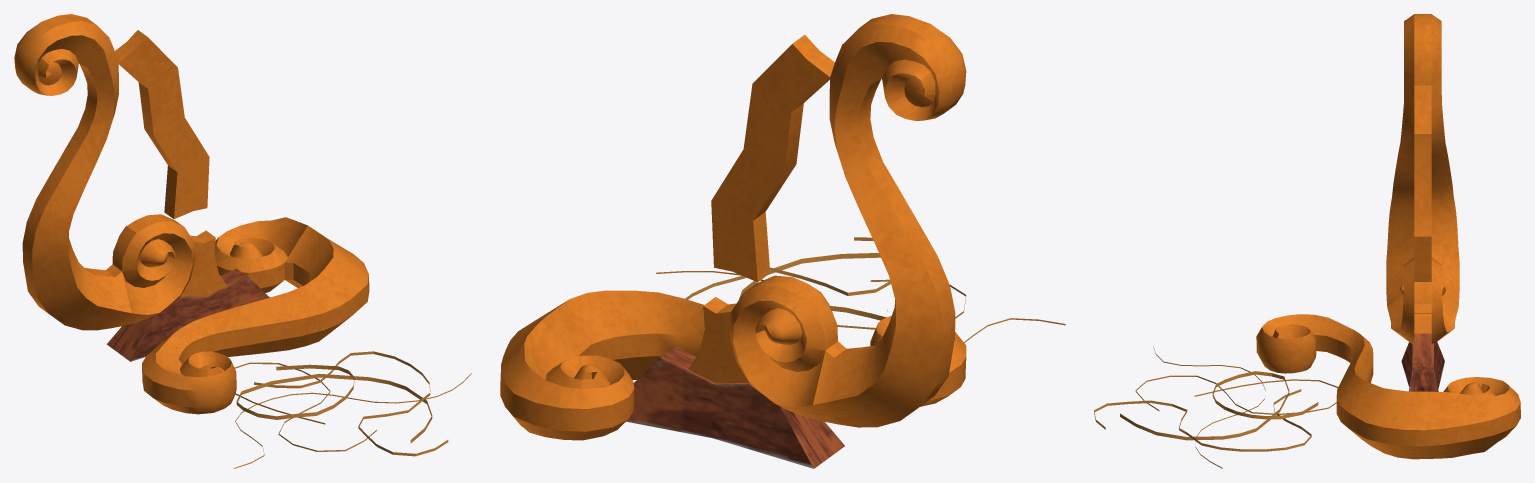
Rendered from harp_broken.fbx.
3 views of the same model, side by side, from view 1: azimuth 30°, elevation 25°; view 2: azimuth 150°, elevation 25°; view 3: azimuth 270°, elevation 25° (orthographic). The views are drawn at different scales.
Visible parts, largest first — view 1: harp_broken; view 2: harp_broken; view 3: harp_broken.
Part boxes in pixels (x1,y1,x2,y2): harp_broken: (14,14,471,468); harp_broken: (500,14,1065,468); harp_broken: (1094,14,1520,468).
Bounding box in the file's own units: 95.12 × 94.28 × 113.
